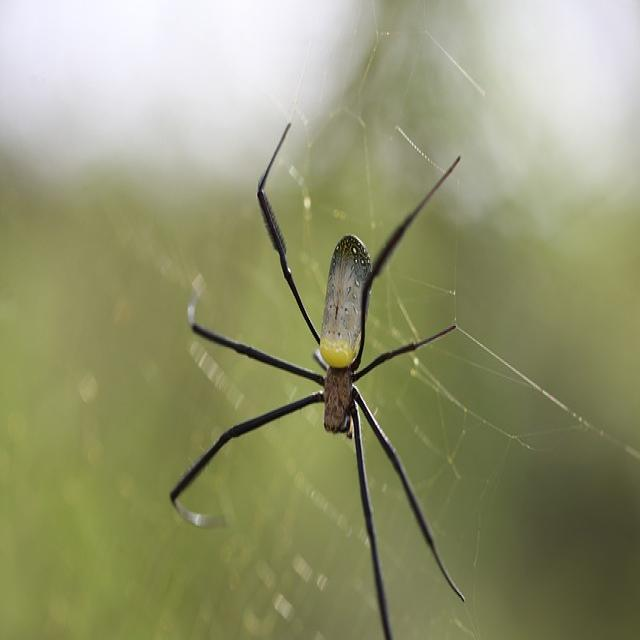spyder: (170, 126, 464, 638)
